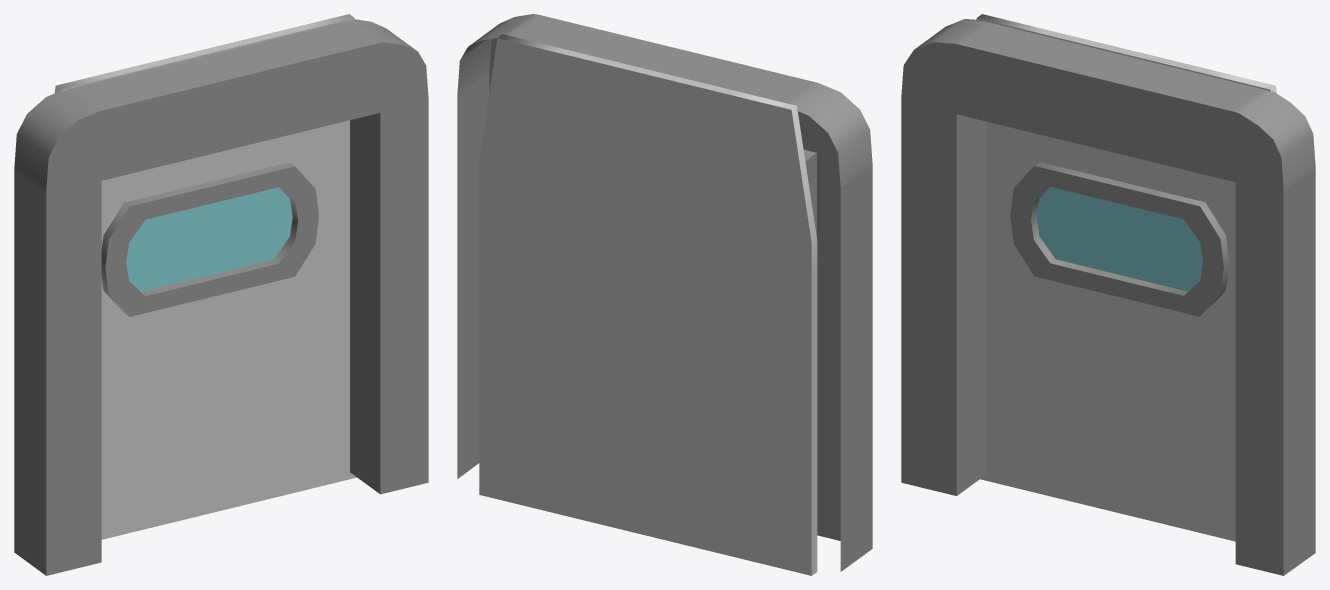
File: Puerta.fbx
The picture shows the model from 3 angles, left to right: view 1: azimuth 30°, elevation 25°; view 2: azimuth 150°, elevation 25°; view 3: azimuth 330°, elevation 25°; orthographic projection.
Parts seen in each view (by area): view 1: __MarcoPuerta, __Puerta; view 2: __Puerta, __MarcoPuerta; view 3: __MarcoPuerta, __Puerta.
Part boxes in pixels (box(x1,y1,x2,y2)): __MarcoPuerta: box(14, 19, 428, 575); __Puerta: box(54, 14, 356, 539); __Puerta: box(479, 34, 817, 575); __MarcoPuerta: box(457, 14, 872, 571); __MarcoPuerta: box(901, 19, 1315, 575); __Puerta: box(976, 14, 1276, 541).
Size of the model in its own units: 2.57 by 2.96 by 0.4157.
